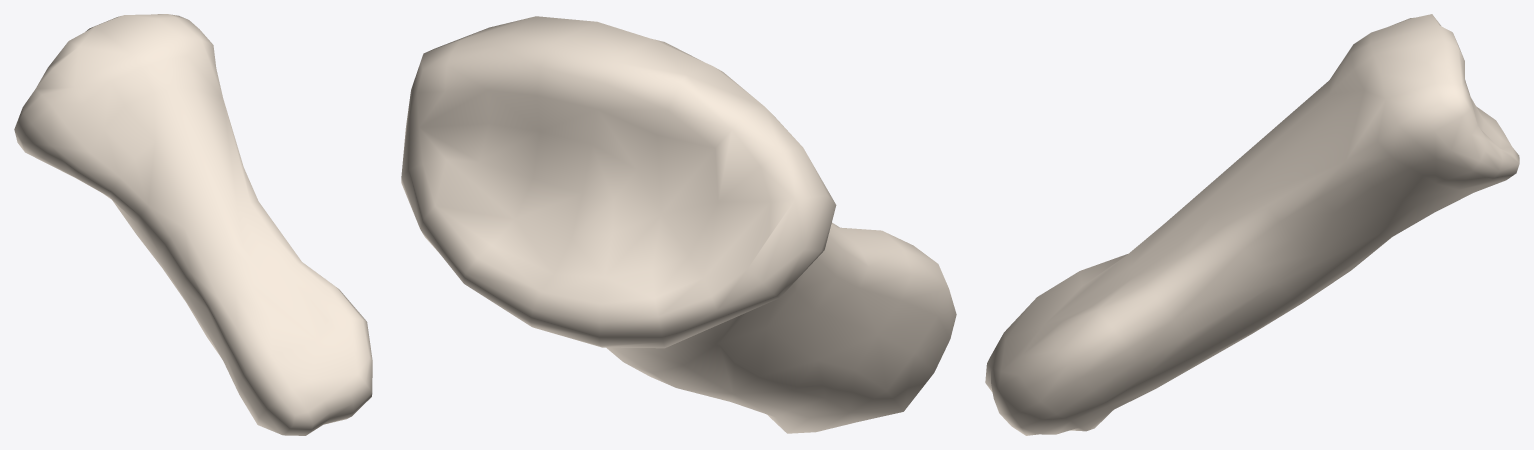
Rendered from left_digit_2_distal.glb.
3 views of the same model, side by side, from view 1: azimuth 30°, elevation 25°; view 2: azimuth 150°, elevation 25°; view 3: azimuth 270°, elevation 25° (orthographic). The views are drawn at different scales.
Visible parts, largest first — view 1: Distal phalanx of 2d finger.r; view 2: Distal phalanx of 2d finger.r; view 3: Distal phalanx of 2d finger.r.
Boxes of the visible parts, bbox=[...] form: Distal phalanx of 2d finger.r: bbox=[14, 14, 372, 435]; Distal phalanx of 2d finger.r: bbox=[401, 16, 956, 433]; Distal phalanx of 2d finger.r: bbox=[985, 14, 1519, 435].
Bounding box in the file's own units: 0.00926 × 0.0128 × 0.0165.
